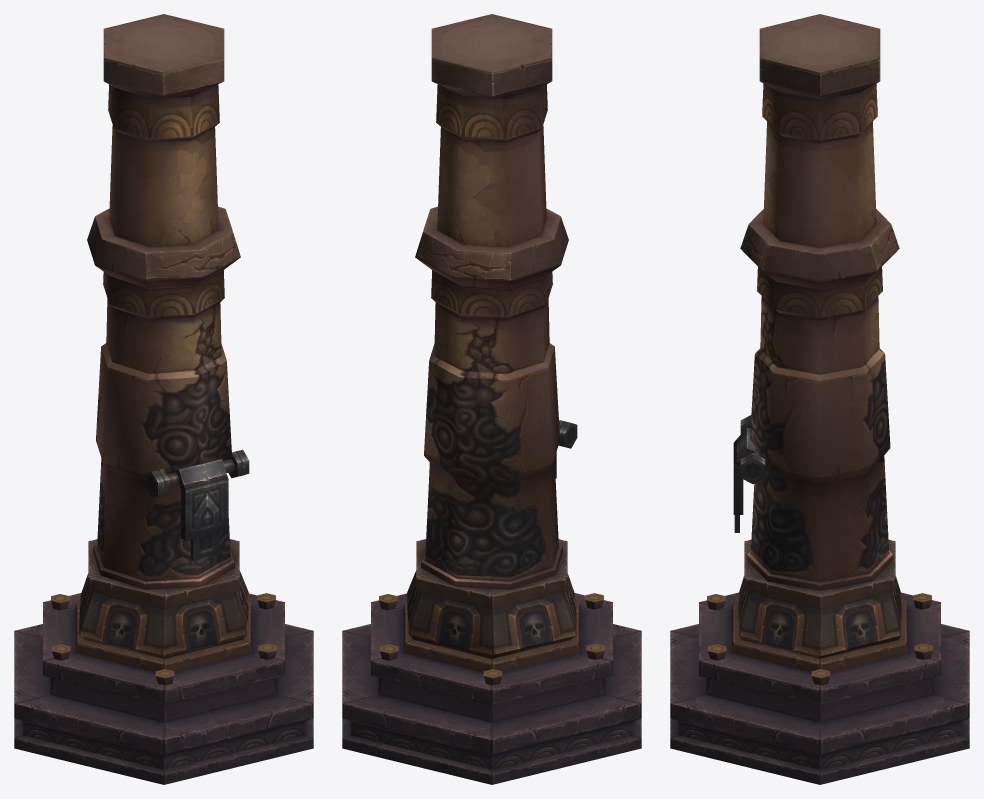
Rendered from fb_suoyt_jz_09.FBX.
3 renders of one model, left to right at view 1: azimuth 30°, elevation 25°; view 2: azimuth 150°, elevation 25°; view 3: azimuth 270°, elevation 25°, orthographic.
Visible parts, largest first — view 1: fb_suoyt_jz_09; view 2: fb_suoyt_jz_09; view 3: fb_suoyt_jz_09.
Part boxes in pixels (box(x1,y1,x2,y2)): fb_suoyt_jz_09: box(14, 14, 313, 784); fb_suoyt_jz_09: box(342, 14, 641, 784); fb_suoyt_jz_09: box(670, 14, 969, 784).
Bounding box in the file's own units: 679 × 1451 × 588.
